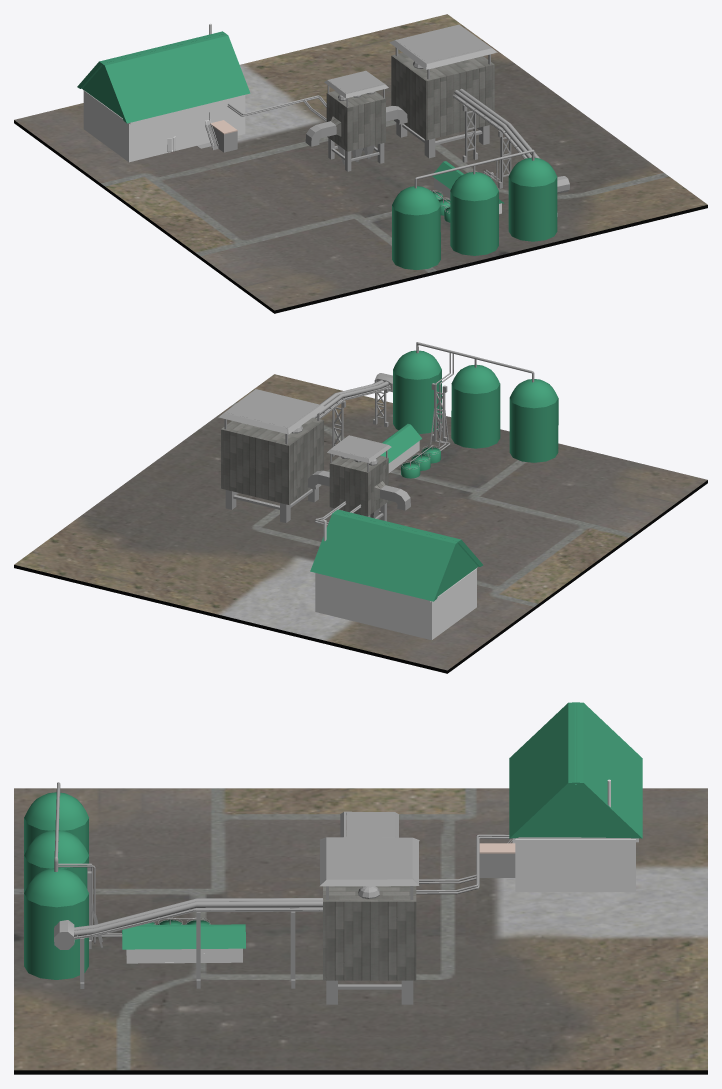
File: Bio_mass11.fbx
The picture shows the model from 3 angles, top to bottom: view 1: azimuth 30°, elevation 25°; view 2: azimuth 150°, elevation 25°; view 3: azimuth 270°, elevation 25°; orthographic projection. The views are drawn at different scales.
Parts seen in each view (by area): view 1: Bio_mass1; view 2: Bio_mass1; view 3: Bio_mass1.
Part boxes in pixels (x1=…): Bio_mass1: x1=14, y1=14, x2=707, y2=313; Bio_mass1: x1=14, y1=342, x2=707, y2=673; Bio_mass1: x1=14, y1=702, x2=707, y2=1074.
Bounding box in the file's own units: 39571 × 8572 × 41178.
8 materials, 2 textured.
